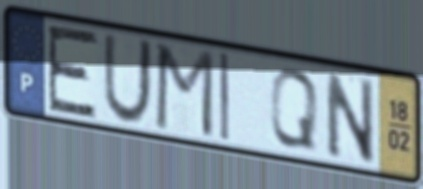E: (45, 23, 101, 121)
I: (217, 49, 231, 144)
M: (152, 40, 216, 142)
N: (322, 67, 378, 166)
Q: (267, 66, 321, 153)
U: (101, 32, 155, 128)
